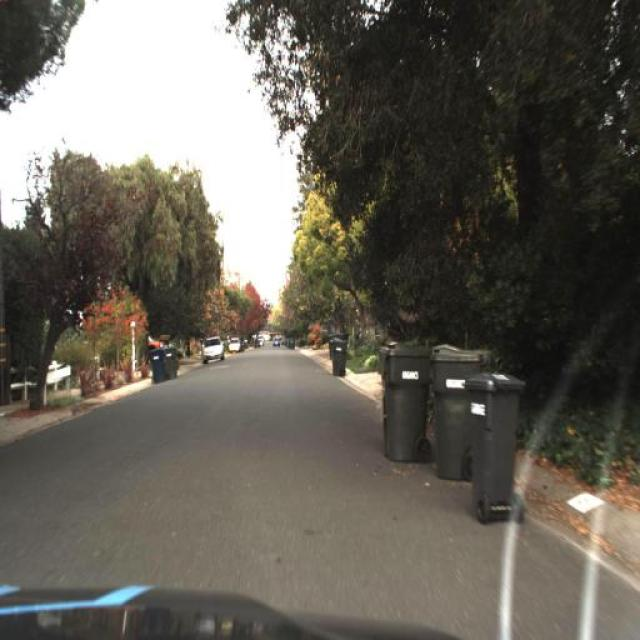car: (198, 333, 228, 368), (203, 334, 225, 361), (144, 330, 164, 358)
